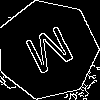M: (22, 25, 81, 84)
